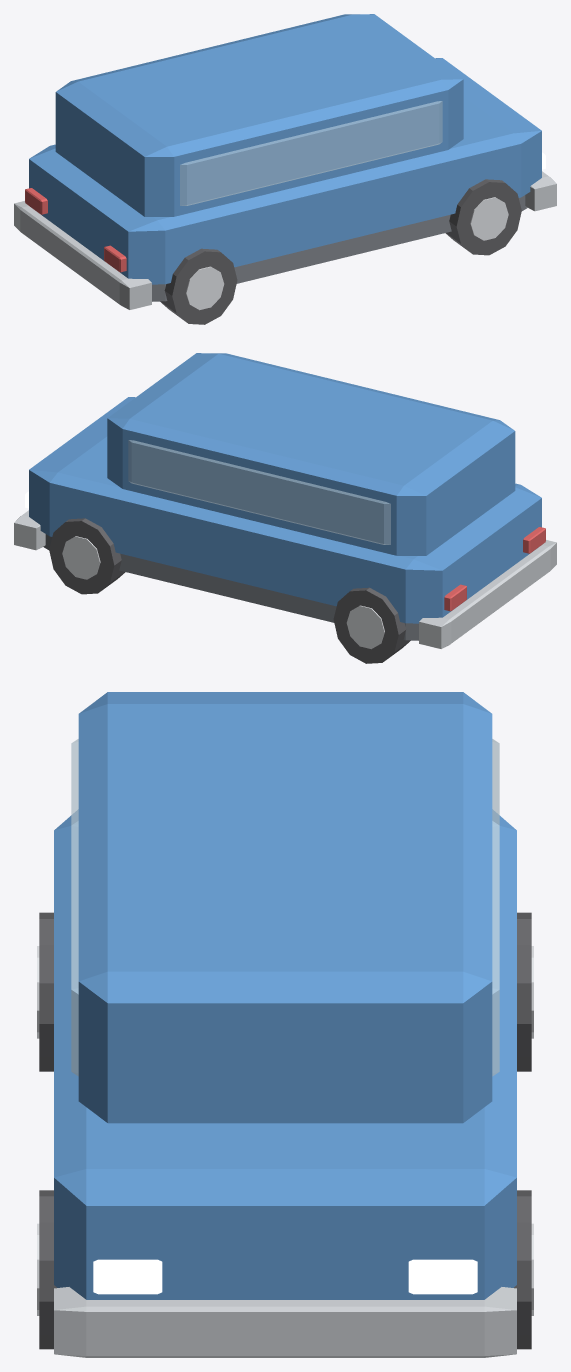
Rendered from b03_five_door_tall_hatchback.glb.
The picture shows the model from 3 angles, top to bottom: view 1: azimuth 30°, elevation 25°; view 2: azimuth 150°, elevation 25°; view 3: azimuth 270°, elevation 25°; orthographic projection. The views are drawn at different scales.
Parts seen in each view (by area): view 1: b03_five_door_tall_hatchback; view 2: b03_five_door_tall_hatchback; view 3: b03_five_door_tall_hatchback.
Boxes of the visible parts, box(x1,y1,x2,y2) form: b03_five_door_tall_hatchback: box(14, 14, 556, 324); b03_five_door_tall_hatchback: box(14, 353, 556, 663); b03_five_door_tall_hatchback: box(37, 692, 533, 1357).
Bounding box in the file's own units: 4.29 × 1.62 × 2.14.
